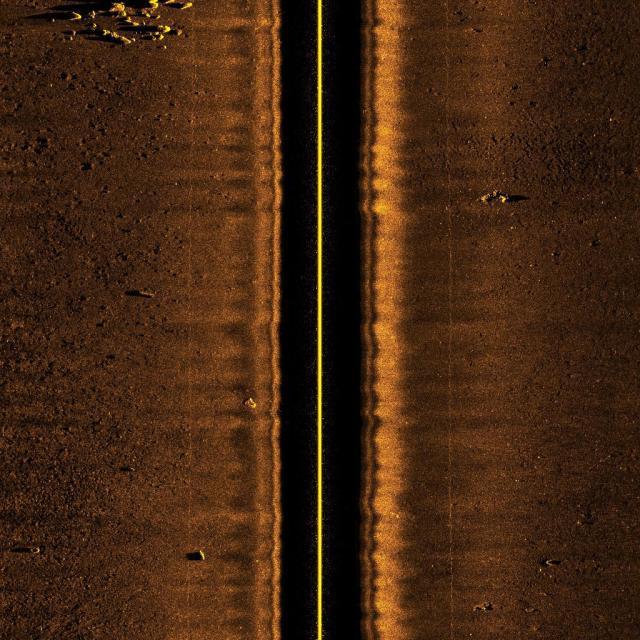mine: (121, 287, 160, 303), (184, 548, 207, 564), (117, 463, 137, 476)
